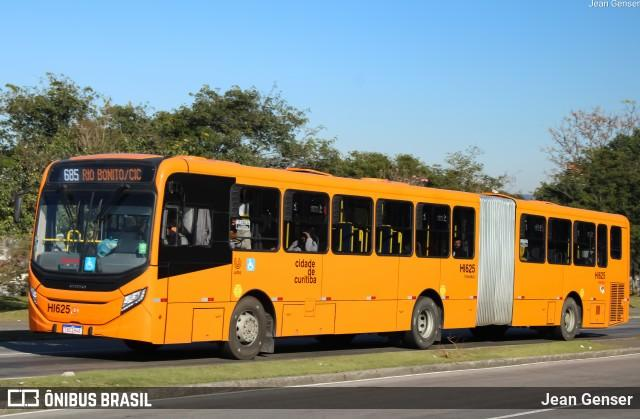RIO BONITO CIC: (81, 165, 143, 184)
